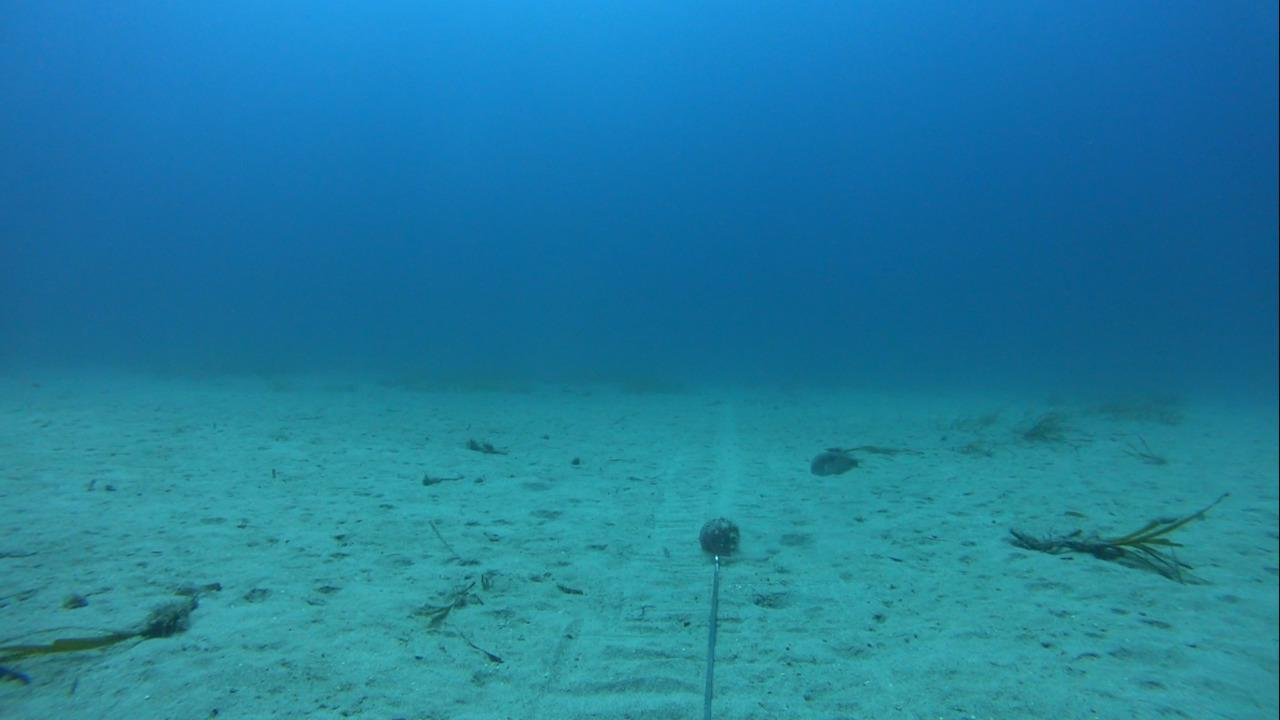raor: (803, 442, 865, 480)
